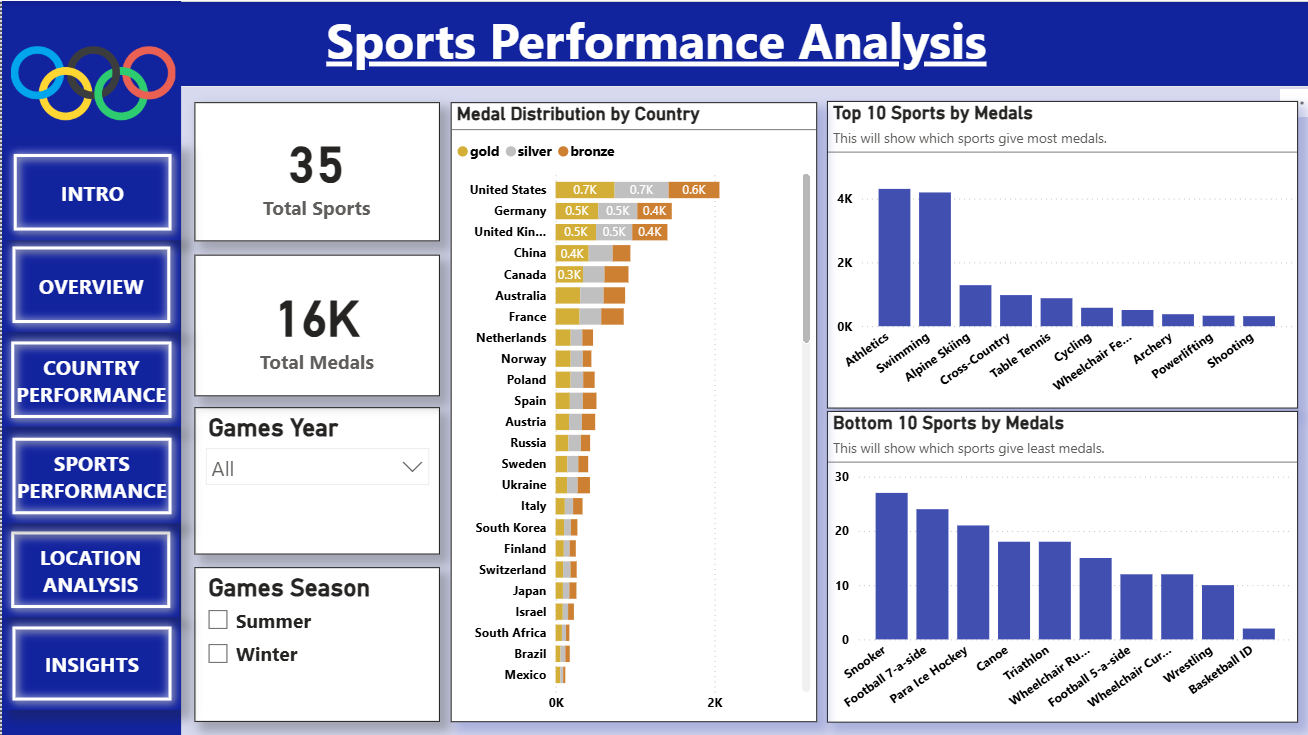

This screenshot's page, from the dashboard's own definition file:
{"tool":"powerbi","page":{"name":"Sports Performance ","canvas":[1280,720],"ordinal":4},"visuals":[{"type":"textbox","box":[0,0,1280.3,84.4],"z":0},{"type":"textbox","box":[0,0,174.9,720.2],"z":1000},{"type":"clusteredColumnChart","title":"Top 10 Sports by Medals","fields":{"Category":["Sheet1.sport"],"Y":["Sheet1.Total Medals"]},"box":[806.9,97.4,461.1,300.5],"z":2000},{"type":"clusteredColumnChart","title":"Bottom 10 Sports by Medals","fields":{"Category":["Sheet1.sport"],"Y":["Sheet1.Total Medals"]},"box":[806.9,400.7,461.1,304.6],"z":3000},{"type":"card","fields":{"Values":["Sheet1.Total Sports"]},"box":[188.3,99,239.7,135.7],"z":4000},{"type":"slicer","fields":{"Values":["Sheet1.games_year"]},"box":[188,397.9,240.1,144.1],"z":5000},{"type":"slicer","fields":{"Values":["Sheet1.games_season"]},"box":[188,554.4,240.1,150.9],"z":6000},{"type":"card","fields":{"Values":["Sheet1.Total Medals"]},"box":[188,248.4,240.1,138.6],"z":7000},{"type":"barChart","title":"Medal Distribution by Country","fields":{"Category":["Sheet1.npc_name"],"Y":["Sum(Sheet1.npc_gold)","Sum(Sheet1.npc_silver)","Sum(Sheet1.npc_bronze)"]},"box":[439.1,98.8,358.1,606.5],"z":8000},{"type":"image","box":[0,0,178.4,160.5],"z":9000},{"type":"actionButton","box":[0,509.9,173.6,92.9],"z":10000},{"type":"actionButton","box":[2.4,140.6,172.4,92.9],"z":11000},{"type":"actionButton","box":[1.2,231.1,172.4,92.9],"z":12000},{"type":"actionButton","box":[0,324.1,174.9,92.9],"z":13000},{"type":"actionButton","box":[1.2,418.2,173.6,92.9],"z":14000},{"type":"actionButton","box":[1.2,602.9,173.6,90.5],"z":15000}]}

Visuals, with their boxes in screenshot pixels (x1, y1, x2, y2), scaled from the page's 1280x720 canvas onto the 1308x735 screenshot:
textbox: rect(0, 0, 1307, 86)
textbox: rect(0, 0, 179, 734)
"Top 10 Sports by Medals" clusteredColumnChart: rect(825, 99, 1296, 406)
"Bottom 10 Sports by Medals" clusteredColumnChart: rect(825, 409, 1296, 720)
card - Sheet1.Total Sports: rect(192, 101, 437, 240)
slicer - Sheet1.games_year: rect(192, 406, 437, 553)
slicer - Sheet1.games_season: rect(192, 566, 437, 720)
card - Sheet1.Total Medals: rect(192, 254, 437, 395)
"Medal Distribution by Country" barChart: rect(449, 101, 815, 720)
image: rect(0, 0, 182, 164)
actionButton: rect(0, 521, 177, 615)
actionButton: rect(2, 144, 179, 238)
actionButton: rect(1, 236, 177, 331)
actionButton: rect(0, 331, 179, 426)
actionButton: rect(1, 427, 179, 522)
actionButton: rect(1, 615, 179, 708)
